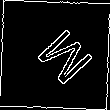M_SW: (21, 21, 89, 89)
